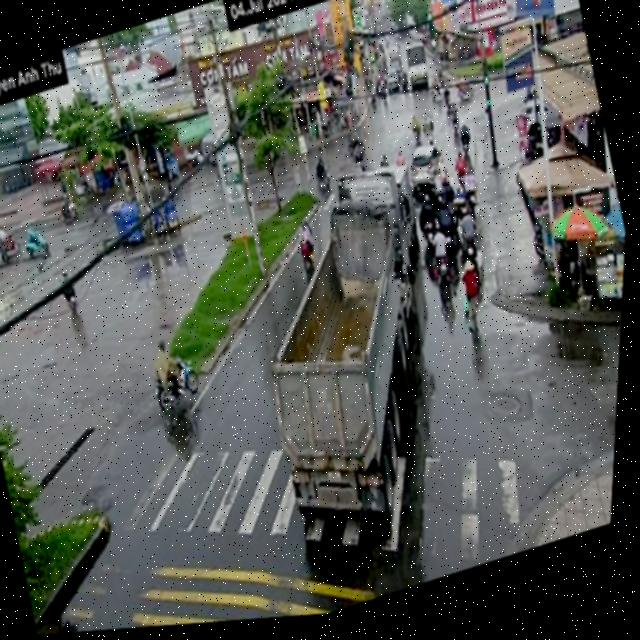Green: (424, 15, 444, 60), (480, 81, 499, 123)
